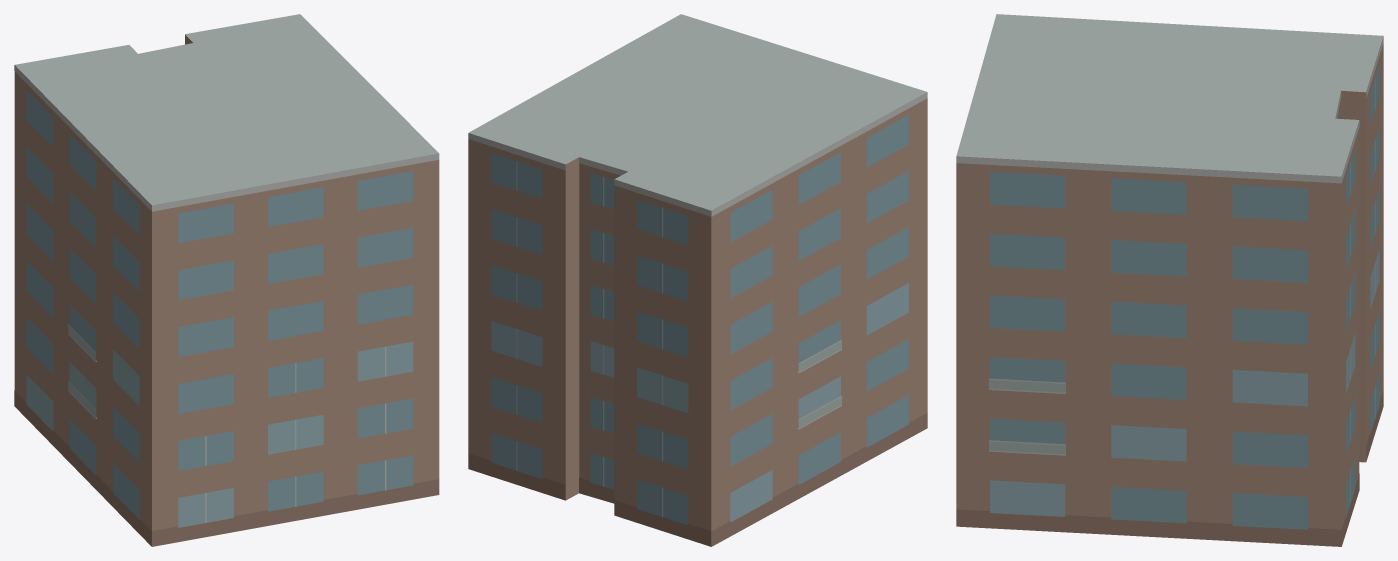
Rendered from survey-upis-32886708.glb.
The picture shows the model from 3 angles, left to right: view 1: azimuth 30°, elevation 25°; view 2: azimuth 150°, elevation 25°; view 3: azimuth 270°, elevation 25°; orthographic projection. The views are drawn at different scales.
Parts seen in each view (by area): view 1: survey-upis-32886708.tmp; view 2: survey-upis-32886708.tmp; view 3: survey-upis-32886708.tmp.
Part boxes in pixels (x1,y1,x2,y2): survey-upis-32886708.tmp: [14, 14, 439, 546]; survey-upis-32886708.tmp: [468, 14, 927, 546]; survey-upis-32886708.tmp: [956, 14, 1383, 546].
Size of the model in its own units: 12.64 by 13.4 by 14.03.
